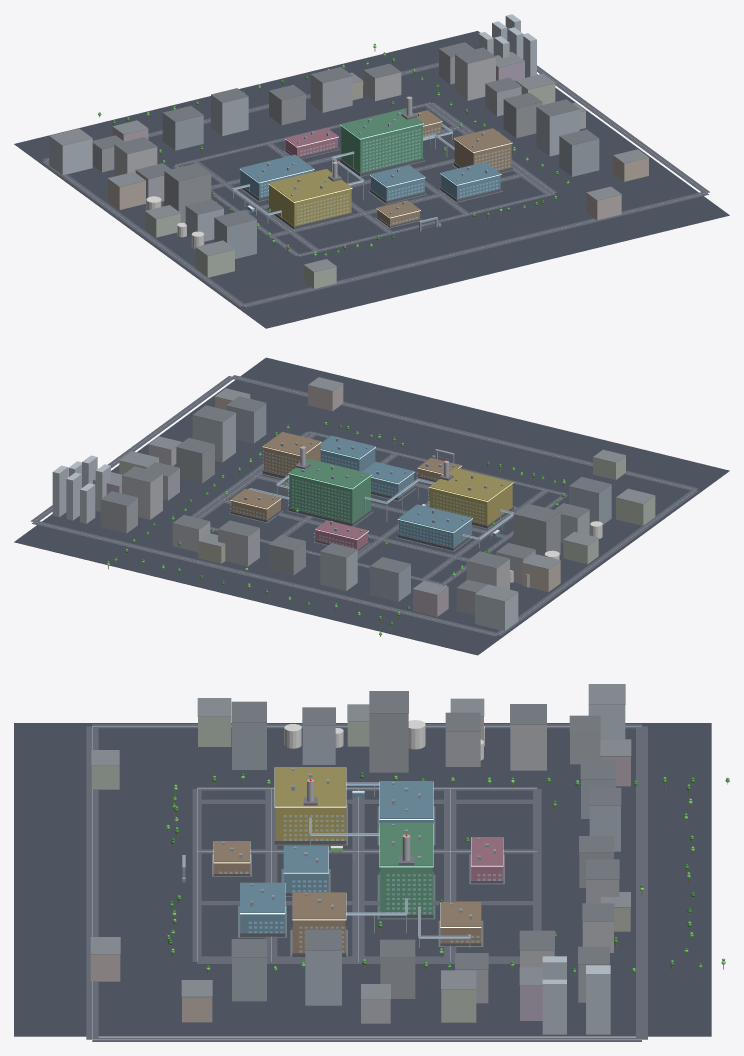
Rendered from campus.gltf.
3 views of the same model, one above another, from view 1: azimuth 30°, elevation 25°; view 2: azimuth 150°, elevation 25°; view 3: azimuth 270°, elevation 25° (orthographic). The views are drawn at different scales.
Visible parts, largest first — view 1: Ground, M16A_B_Body, Road_OUT_N, M14A_B_Body, M14A_B_Roof, Outer_2, Outer_7, Outer_10, Road_OUT_W, Aux_청운기숙사, Outer_6, Outer_15 (+33 smaller); view 2: Ground, M16A_B_Body, Road_OUT_S, Road_OUT_N, M14A_B_Body, Outer_2, M14A_B_Roof, Outer_7, Road_OUT_W, Aux_청운기숙사, Outer_13, Outer_10 (+40 smaller); view 3: Ground, Road_OUT_S, Road_OUT_N, Road_OUT_E, M14A_B_Roof, M16A_B_Body, Outer_2, M14A_B_Body, M16A_B_Roof, Outer_7, M10A_Roof, Road_EW2 (+64 smaller).
Boxes of the visible parts, x1=… form: Ground: x1=14, y1=31, x2=729, y2=328; M16A_B_Body: x1=341, y1=124, x2=422, y2=173; Road_OUT_N: x1=241, y1=191, x2=708, y2=307; M14A_B_Body: x1=269, y1=185, x2=351, y2=226; M14A_B_Roof: x1=268, y1=169, x2=352, y2=201; Outer_2: x1=164, y1=171, x2=211, y2=222; Outer_7: x1=536, y1=107, x2=579, y2=156; Outer_10: x1=455, y1=55, x2=495, y2=100; Road_OUT_W: x1=41, y1=160, x2=243, y2=306; Aux_청운기숙사: x1=49, y1=136, x2=92, y2=174; Outer_6: x1=559, y1=136, x2=599, y2=176; Outer_15: x1=310, y1=75, x2=352, y2=112; Ground: x1=14, y1=357, x2=729, y2=655; M16A_B_Body: x1=289, y1=474, x2=370, y2=522; Road_OUT_S: x1=32, y1=520, x2=498, y2=636; Road_OUT_N: x1=231, y1=375, x2=698, y2=491; M14A_B_Body: x1=430, y1=484, x2=512, y2=525; Outer_2: x1=513, y1=512, x2=560, y2=556; M14A_B_Roof: x1=429, y1=468, x2=512, y2=500; Outer_7: x1=192, y1=413, x2=235, y2=462; Road_OUT_W: x1=495, y1=489, x2=698, y2=635; Aux_청운기숙사: x1=475, y1=592, x2=518, y2=630; Outer_13: x1=320, y1=550, x2=357, y2=590; Outer_10: x1=122, y1=474, x2=162, y2=519; Ground: x1=14, y1=723, x2=711, y2=1036; Road_OUT_S: x1=636, y1=726, x2=647, y2=1039; Road_OUT_N: x1=86, y1=726, x2=98, y2=1039; Road_OUT_E: x1=92, y1=1037, x2=641, y2=1041; M14A_B_Roof: x1=275, y1=767, x2=345, y2=806; M16A_B_Body: x1=380, y1=867, x2=432, y2=914; Outer_2: x1=369, y1=713, x2=408, y2=772; M14A_B_Body: x1=275, y1=807, x2=345, y2=840; M16A_B_Roof: x1=379, y1=822, x2=433, y2=866; Outer_7: x1=305, y1=950, x2=341, y2=1005; M10A_Roof: x1=379, y1=781, x2=433, y2=818; Road_EW2: x1=352, y1=789, x2=364, y2=961.
Bounding box in the file's own units: 866 × 105 × 821.
